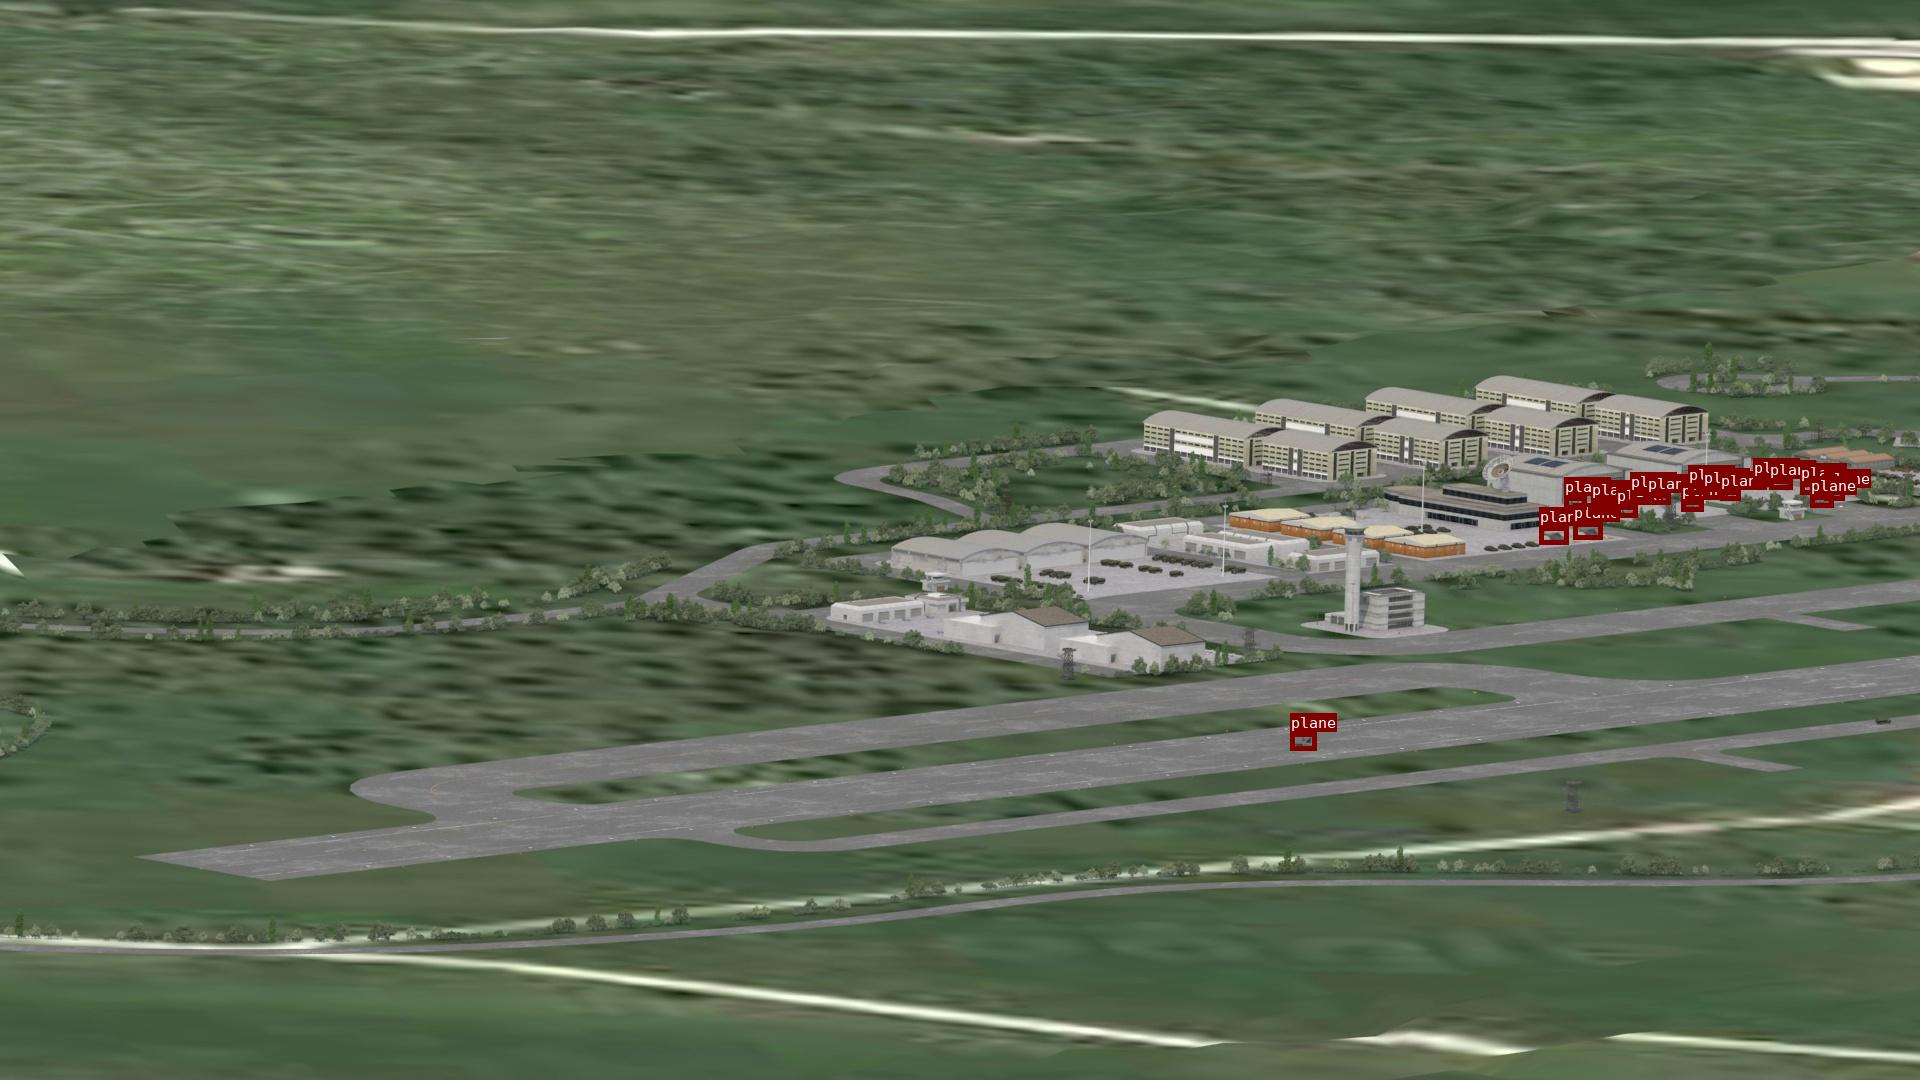plane: (1539, 526, 1568, 545), (1573, 522, 1602, 539), (1290, 732, 1316, 750), (1592, 498, 1615, 514), (1564, 496, 1586, 509), (1811, 495, 1833, 506), (1615, 505, 1636, 517), (1681, 500, 1702, 512), (1768, 479, 1792, 489), (1800, 483, 1821, 495), (1647, 493, 1669, 504), (1824, 488, 1844, 500), (1702, 487, 1721, 498), (1630, 491, 1648, 501), (1720, 491, 1741, 500), (1688, 484, 1702, 495), (1753, 477, 1768, 487)
